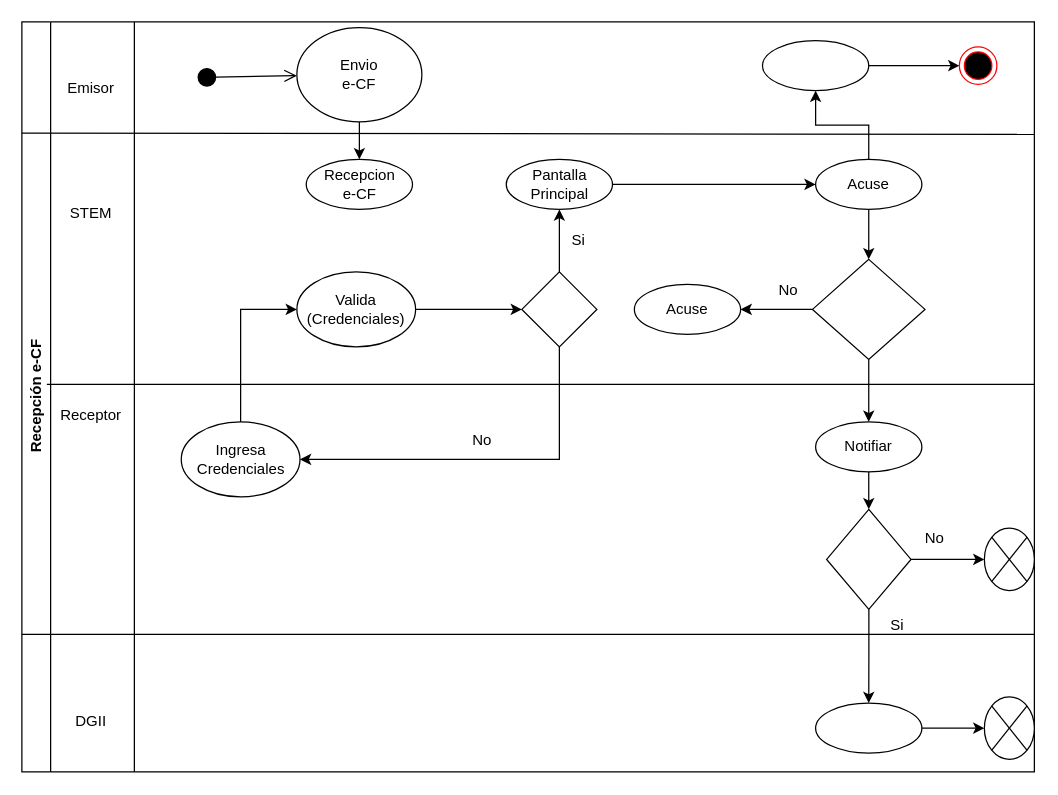
The diagram is 1058 pixels wide and 795 high, and some of its shapes have lost their labels. The shapes that lost their labels are listed below. From the top down, each one's box as (x1, y1, x2, y2) in pixels, then its label:
(761, 39, 869, 91): Recibe Notificacion de acuse
(521, 271, 597, 347): Correcto
(811, 258, 925, 359): Aprueba e-CF
(825, 508, 911, 609): Quiero Noficar?
(814, 702, 922, 753): Recibe Notificacion
